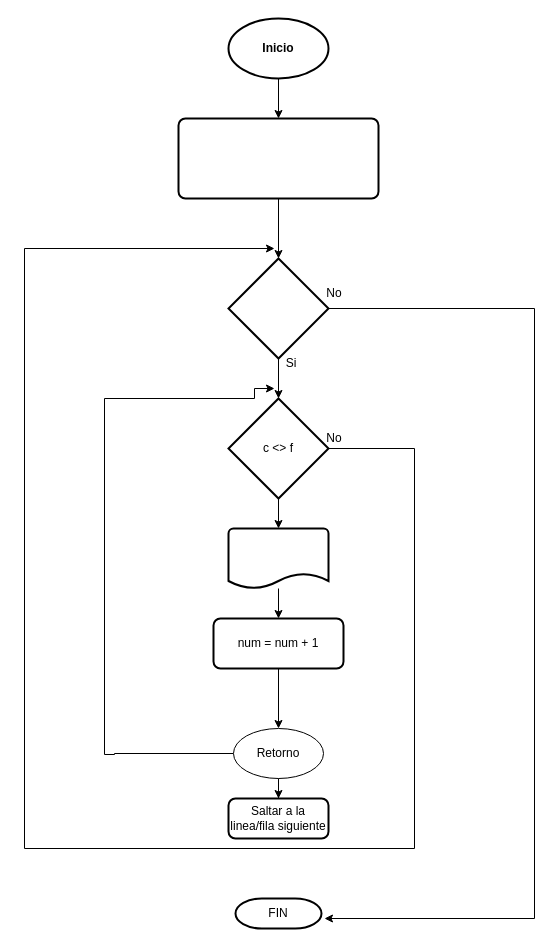
The diagram is 560 pixels wide and 946 high, and some of its shapes have lost their labels. The centre of each missing label's shape, as x and y in pixels:
Escribir num: point (278, 558)
f <> n: point (278, 308)
num = 1, n = 4, f = 1, c = 1: point (278, 158)
